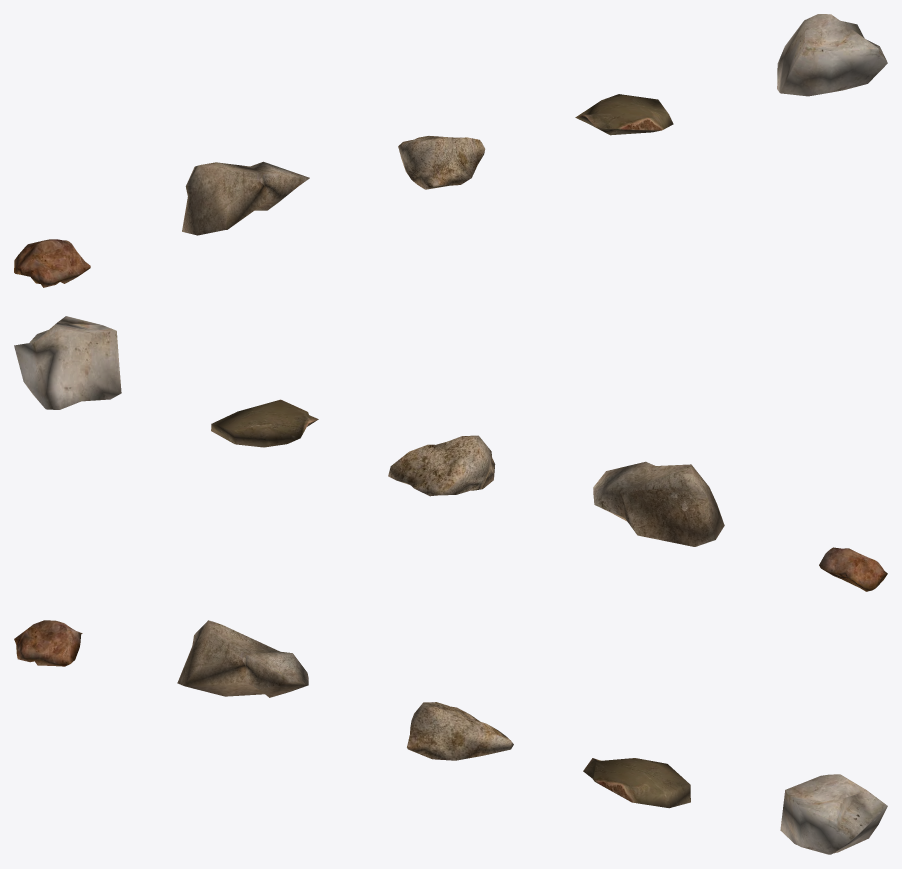
Rendered from stones.glb.
3 views of the same model, one above another, from view 1: azimuth 30°, elevation 25°; view 2: azimuth 150°, elevation 25°; view 3: azimuth 330°, elevation 25° (orthographic).
Visible parts, largest first — view 1: namaqualand_stones_01_e, namaqualand_stones_01_b, namaqualand_stones_01_c, namaqualand_stones_01_d, namaqualand_stones_01_a; view 2: namaqualand_stones_01_b, namaqualand_stones_01_e, namaqualand_stones_01_c, namaqualand_stones_01_d, namaqualand_stones_01_a; view 3: namaqualand_stones_01_b, namaqualand_stones_01_e, namaqualand_stones_01_c, namaqualand_stones_01_d, namaqualand_stones_01_a.
Part boxes in pixels (bbox=[...]): namaqualand_stones_01_e: bbox=[777, 14, 887, 96]; namaqualand_stones_01_b: bbox=[182, 161, 309, 235]; namaqualand_stones_01_c: bbox=[398, 136, 485, 189]; namaqualand_stones_01_d: bbox=[575, 94, 673, 135]; namaqualand_stones_01_a: bbox=[14, 239, 90, 287]; namaqualand_stones_01_b: bbox=[593, 461, 724, 546]; namaqualand_stones_01_e: bbox=[14, 316, 121, 409]; namaqualand_stones_01_c: bbox=[388, 435, 495, 496]; namaqualand_stones_01_d: bbox=[211, 399, 318, 447]; namaqualand_stones_01_a: bbox=[819, 547, 887, 591]; namaqualand_stones_01_b: bbox=[177, 620, 308, 697]; namaqualand_stones_01_e: bbox=[780, 774, 887, 854]; namaqualand_stones_01_c: bbox=[407, 702, 513, 760]; namaqualand_stones_01_d: bbox=[583, 758, 690, 808]; namaqualand_stones_01_a: bbox=[14, 620, 82, 666].
Size of the model in its own units: 1.02 by 0.0801 by 0.1114.
1 material, 1 textured.
